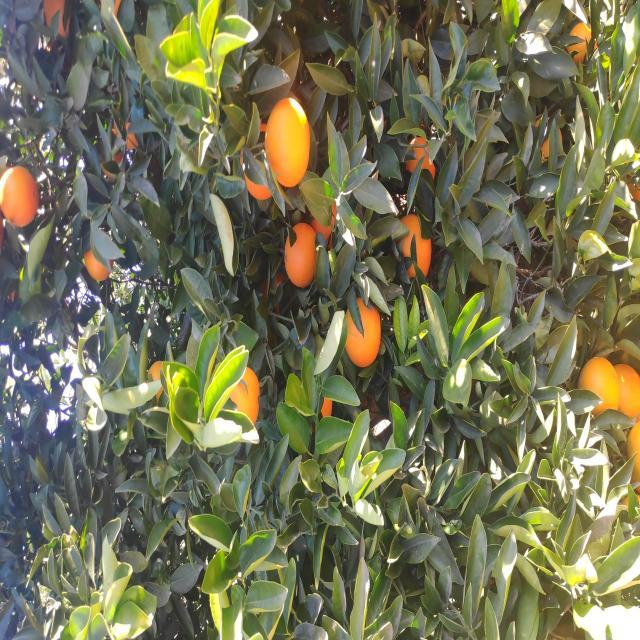Jeruk Sudah Matang: (453, 266, 545, 312), (216, 575, 285, 620), (274, 343, 341, 381), (412, 0, 475, 38), (358, 397, 426, 430), (210, 608, 280, 640), (356, 286, 418, 316), (216, 232, 276, 260), (460, 402, 508, 435), (440, 245, 478, 274), (360, 85, 396, 114), (580, 569, 620, 595), (603, 44, 640, 68), (150, 628, 217, 640), (237, 148, 280, 164), (215, 322, 244, 334)
